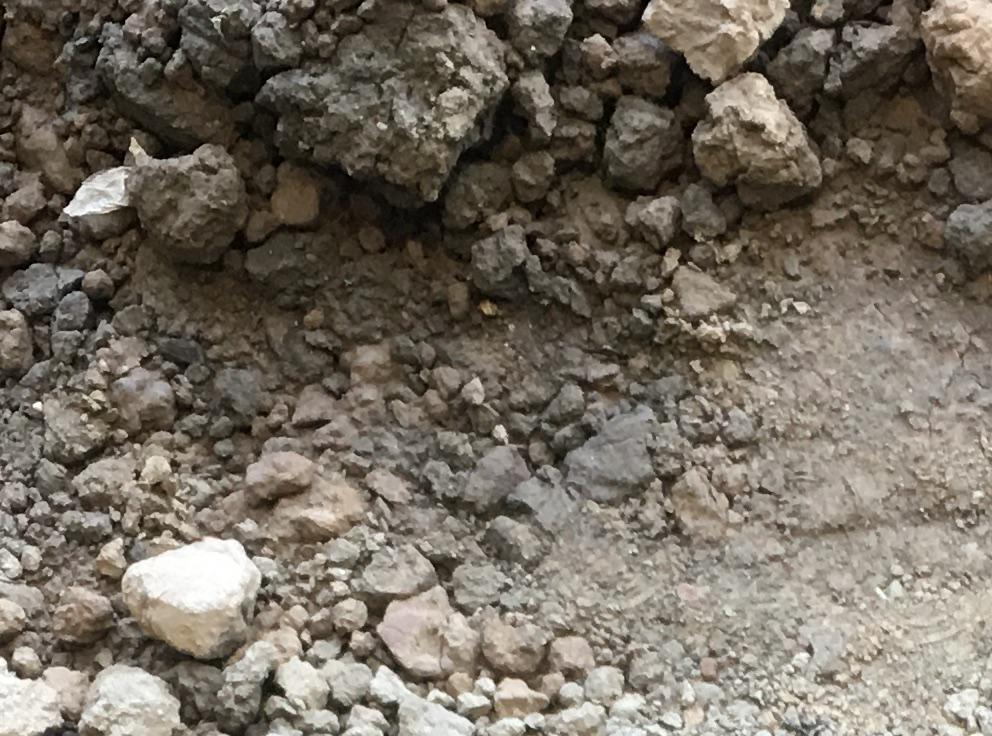block: (260, 7, 514, 205), (119, 532, 260, 662), (693, 75, 822, 202), (127, 137, 246, 274), (923, 2, 992, 130), (79, 659, 176, 736)
